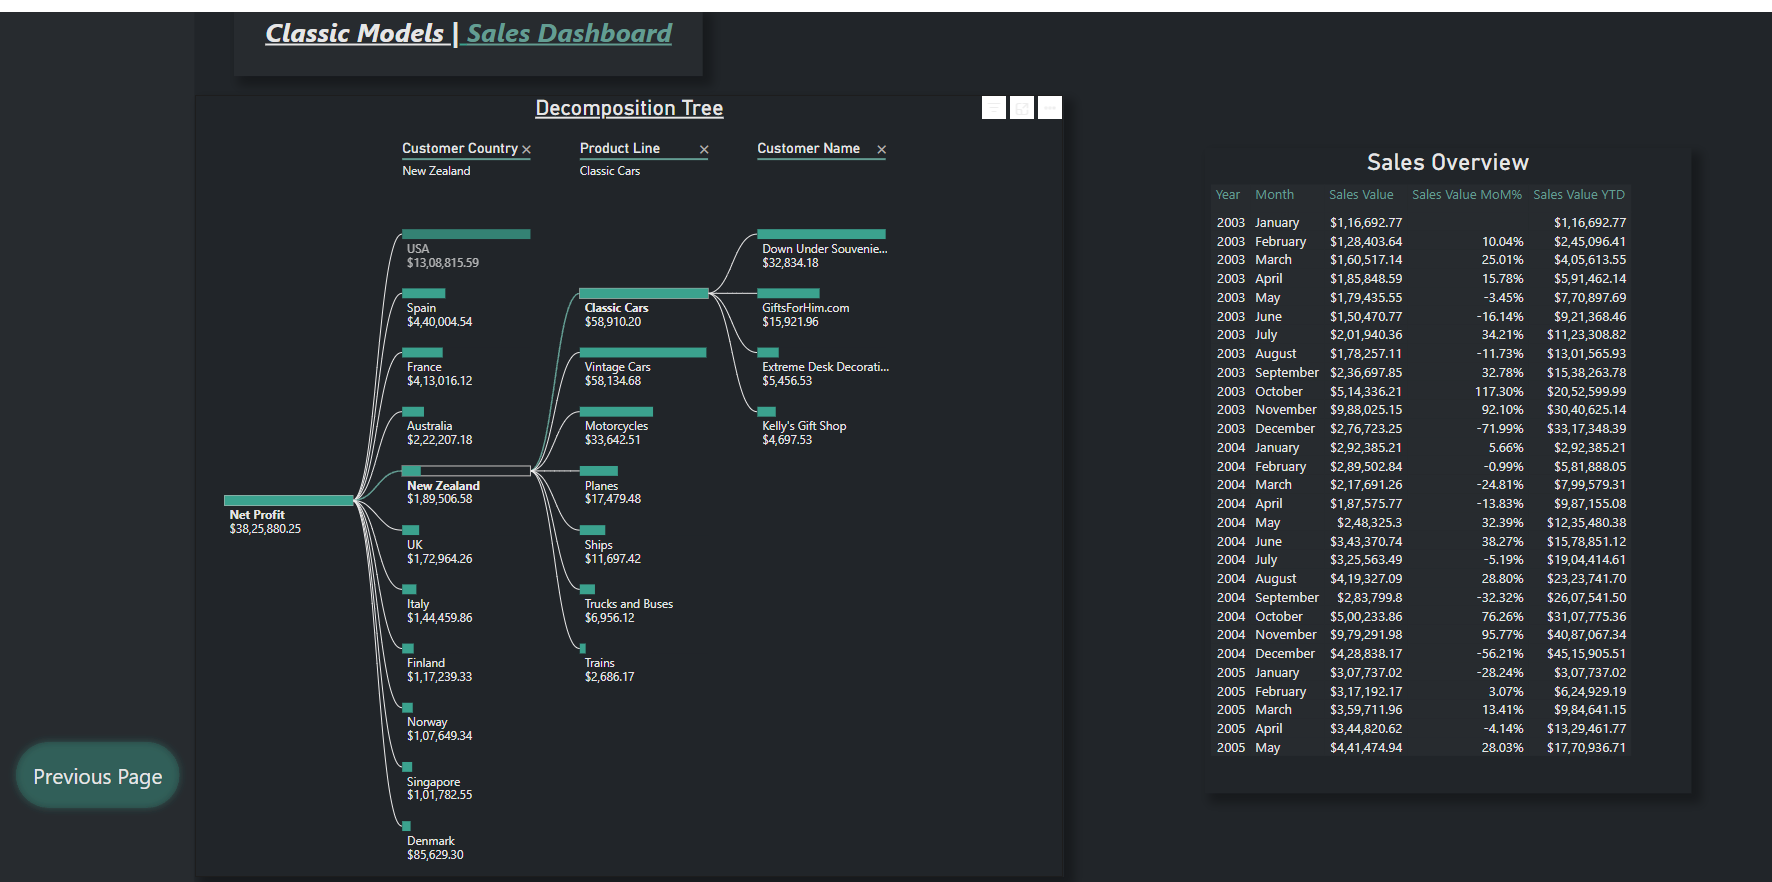

The page's visual inventory and layout, read from the dashboard file:
{"tool":"powerbi","page":{"name":"Sales overview -page 2","canvas":[1800,900],"ordinal":1},"visuals":[{"type":"shape","box":[0,0,198.2,900],"z":0},{"type":"decompositionTreeVisual","title":"Decomposition Tree","fields":{"Analyze":["classicmodels sales_data_for_power_bi.Net Profit"],"ExplainBy":["classicmodels sales_data_for_power_bi.customer_country","classicmodels sales_data_for_power_bi.productline","classicmodels sales_data_for_power_bi.customerName"]},"box":[198.2,87.9,880.6,792.7],"z":1},{"type":"textbox","box":[238.4,0,475.3,68.5],"z":2},{"type":"tableEx","title":"Sales Overview","fields":{"Values":["classicmodels sales_data_for_power_bi.orderDate.Variation.Date Hierarchy.Year","classicmodels sales_data_for_power_bi.orderDate.Variation.Date Hierarchy.Month","classicmodels sales_data_for_power_bi.Sales_Value","classicmodels sales_data_for_power_bi.Sum of Sales_Value MoM%","Table.Sum of Sales_Value YTD"]},"box":[1221.9,141.6,493.2,654.1],"z":3},{"type":"actionButton","box":[9.2,735.8,182,83.1],"z":4}]}

Visuals, with their boxes in screenshot pixels (x1, y1, x2, y2), scaled from the page's 1800x900 canvas onto the 1772x882 screenshot:
shape: <region>0, 0, 195, 881</region>
"Decomposition Tree" decompositionTreeVisual: <region>195, 86, 1062, 863</region>
textbox: <region>235, 0, 703, 67</region>
"Sales Overview" tableEx: <region>1203, 139, 1688, 780</region>
actionButton: <region>9, 721, 188, 803</region>
